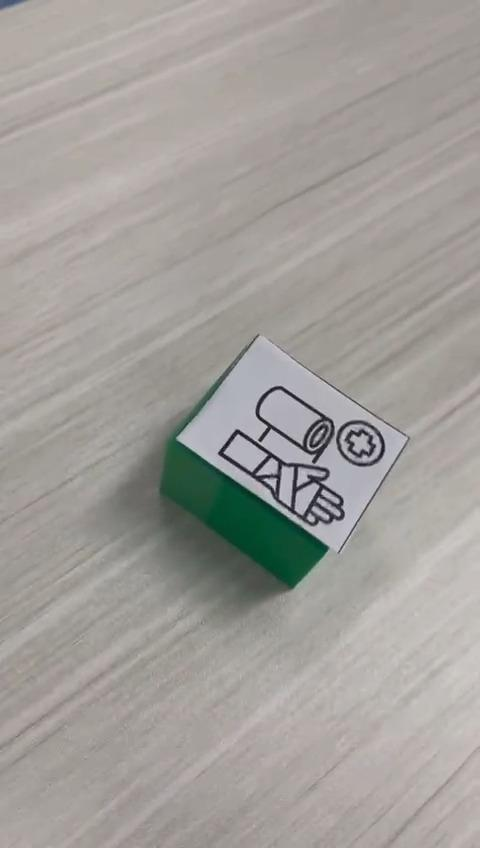Bandages: (160, 335, 410, 589)
